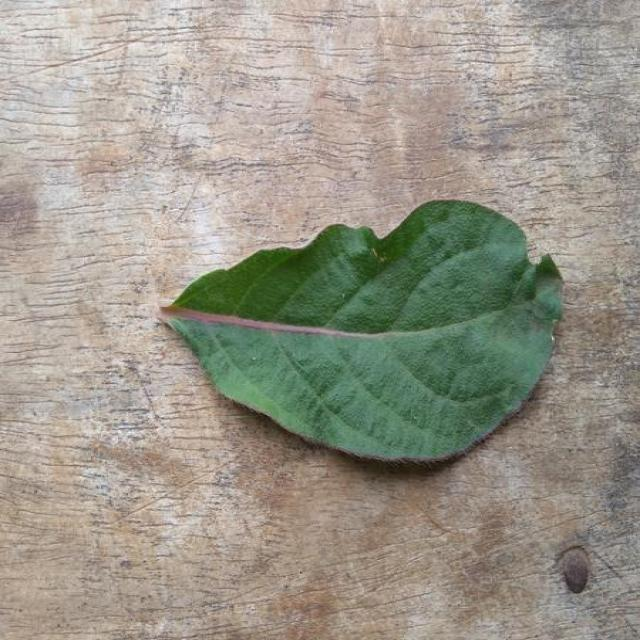globe amarnath: (160, 201, 562, 461)
